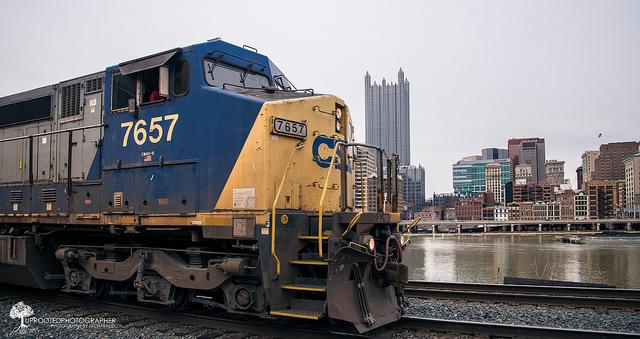Train: (1, 42, 411, 335)
